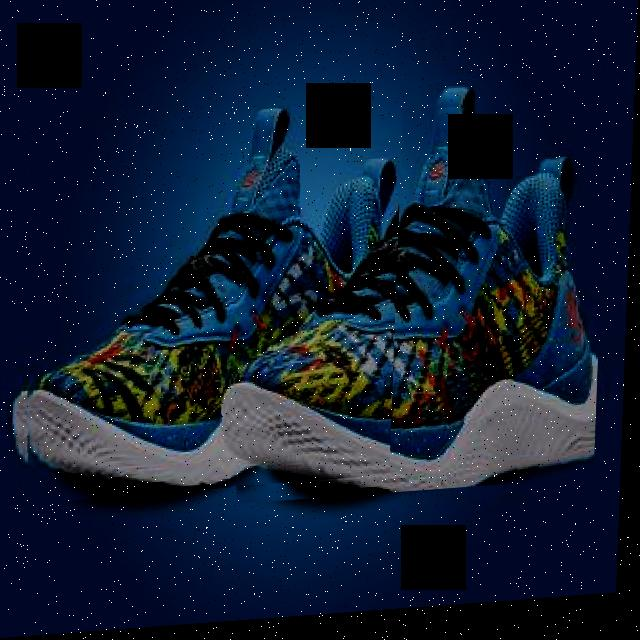shoe: (212, 95, 609, 510), (15, 105, 404, 505)
